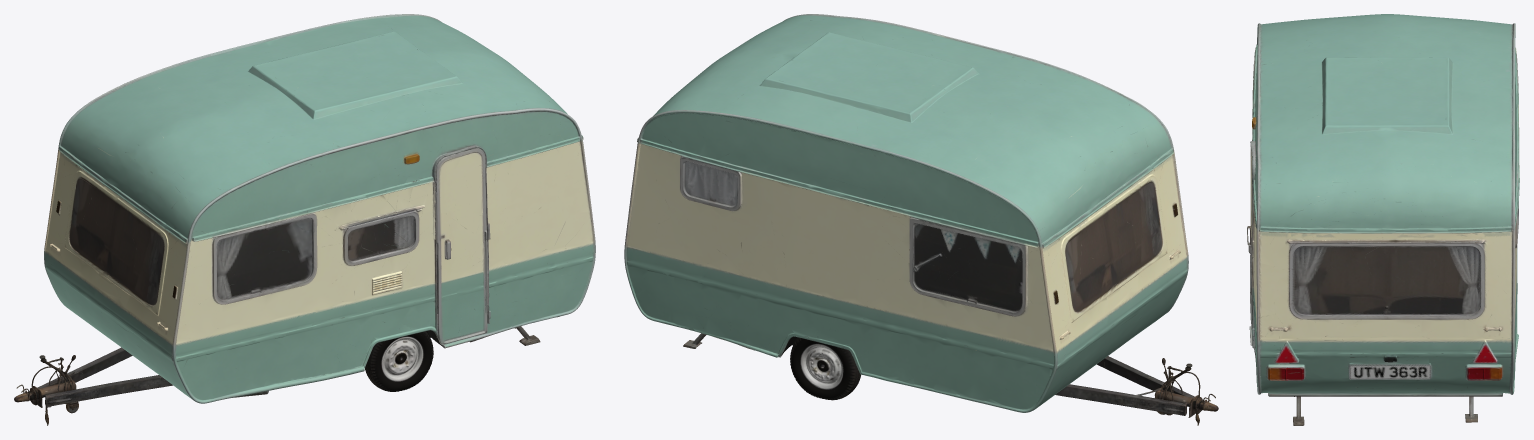
Rendered from caravan.glb.
3 views of the same model, side by side, from view 1: azimuth 30°, elevation 25°; view 2: azimuth 150°, elevation 25°; view 3: azimuth 270°, elevation 25° (orthographic). The views are drawn at different scales.
Size of the model in its own units: 1.9 by 0.9608 by 0.8769.
1 material, 1 textured.
